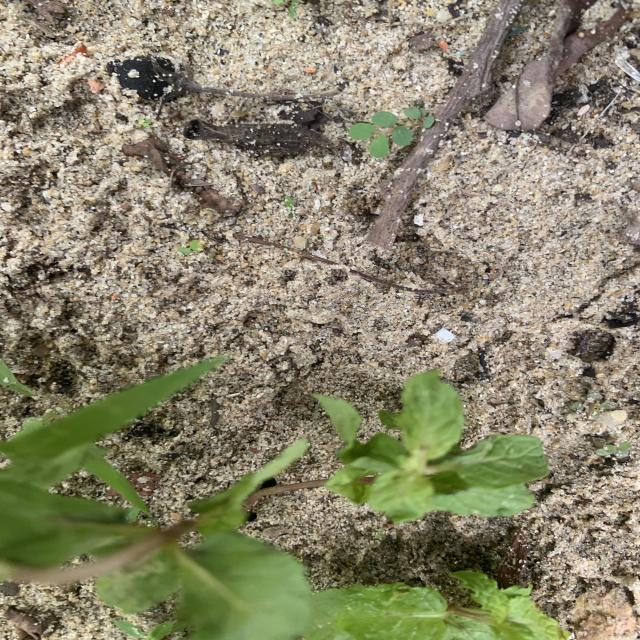crop: (0, 441, 310, 640), (314, 371, 549, 523), (307, 570, 568, 639)
weed: (2, 357, 226, 460), (349, 107, 435, 158), (115, 619, 189, 639), (596, 441, 631, 460), (273, 1, 302, 18), (178, 239, 204, 254), (137, 118, 151, 128)
